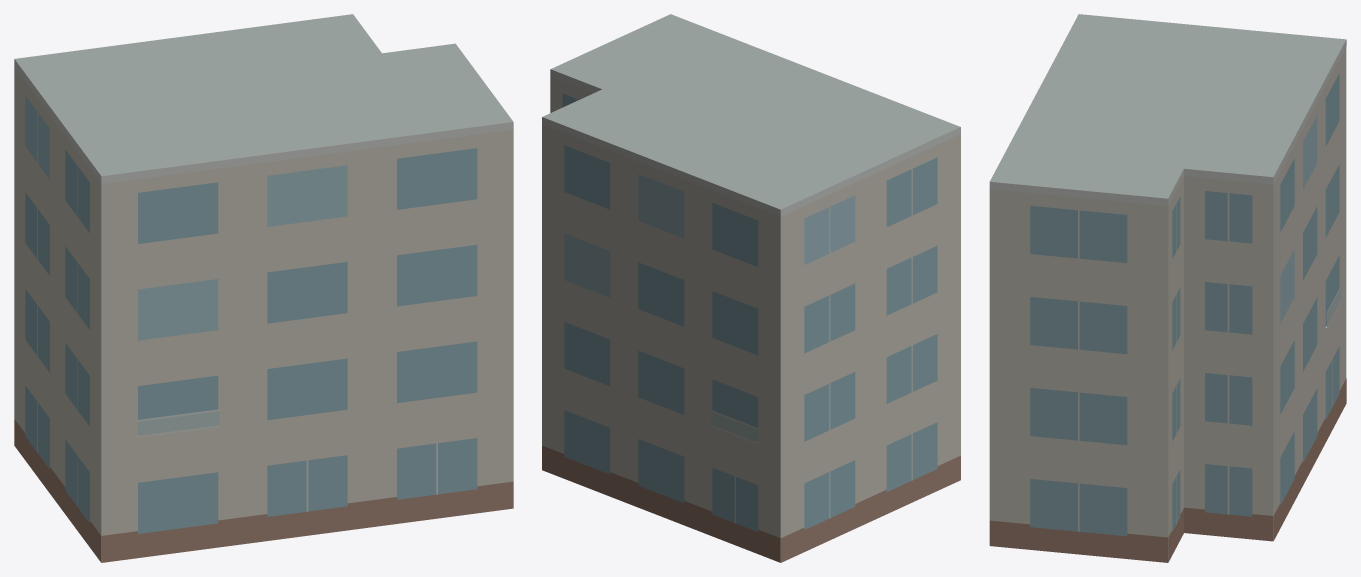
The model's file is residential-149492d1-6155-428b-99db-0b107033f5a4.glb.
The picture shows the model from 3 angles, left to right: view 1: azimuth 30°, elevation 25°; view 2: azimuth 150°, elevation 25°; view 3: azimuth 270°, elevation 25°; orthographic projection. The views are drawn at different scales.
Parts seen in each view (by area): view 1: residential-149492d1-6155-428b-99db-0b107033f5a4.tmp; view 2: residential-149492d1-6155-428b-99db-0b107033f5a4.tmp; view 3: residential-149492d1-6155-428b-99db-0b107033f5a4.tmp.
Part boxes in pixels (x1,y1,x2,y2): residential-149492d1-6155-428b-99db-0b107033f5a4.tmp: (14,14,513,562); residential-149492d1-6155-428b-99db-0b107033f5a4.tmp: (542,14,960,562); residential-149492d1-6155-428b-99db-0b107033f5a4.tmp: (989,14,1346,562).
Bounding box in the file's own units: 13.28 × 12.2 × 10.84.
